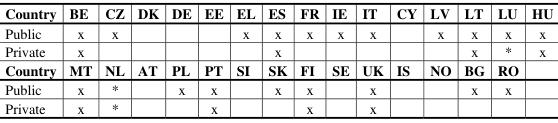table: (4, 3, 552, 116)
table column: (4, 3, 62, 116), (62, 3, 97, 116), (130, 3, 164, 116), (355, 3, 389, 116), (422, 3, 456, 116), (456, 3, 490, 116), (490, 3, 524, 116), (97, 3, 130, 116), (164, 3, 197, 116), (389, 3, 422, 116), (197, 3, 229, 116), (229, 3, 261, 116), (261, 3, 293, 116), (293, 3, 324, 116), (324, 3, 355, 116), (524, 3, 552, 116)
table column header: (4, 3, 552, 23)
table row: (4, 3, 552, 23), (4, 41, 552, 60), (4, 60, 552, 79), (4, 79, 552, 98), (4, 23, 552, 41), (4, 98, 552, 116)
